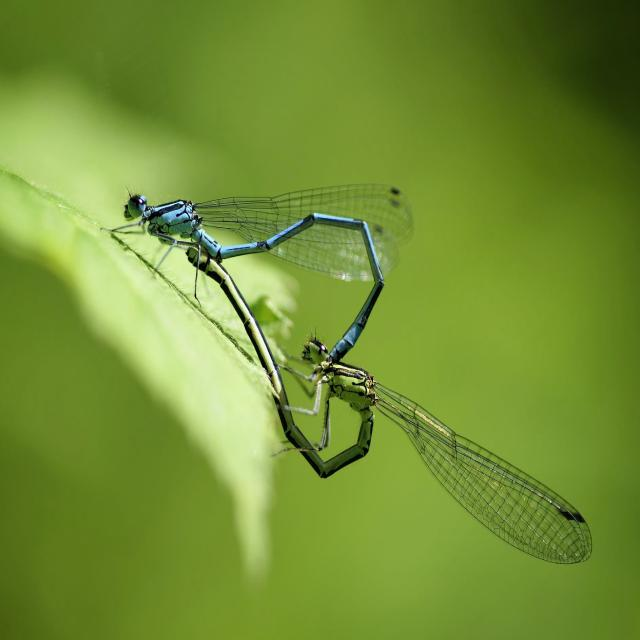dragonfly: (199, 259, 591, 564), (112, 185, 413, 360)
